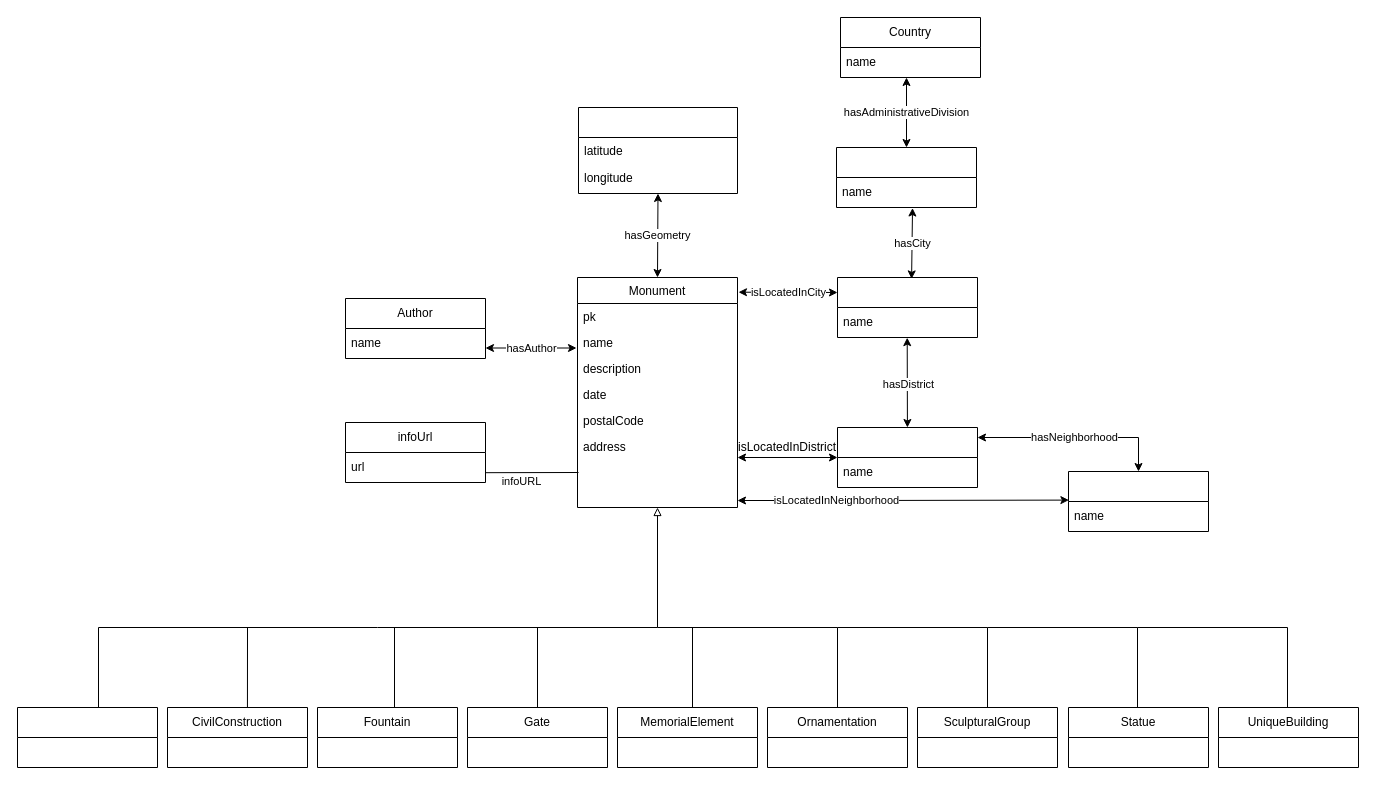
This 1376x785 diagram has some shape labels left out. Here are the shapes that lost their labels. From the top down, the box of each, then its label:
(578, 106, 738, 194): Geometry
(836, 146, 976, 208): AdministrativeDivision
(836, 276, 978, 338): City
(836, 426, 978, 488): District
(1068, 470, 1208, 532): Neighborhood
(16, 706, 158, 768): AbstractSculpture
